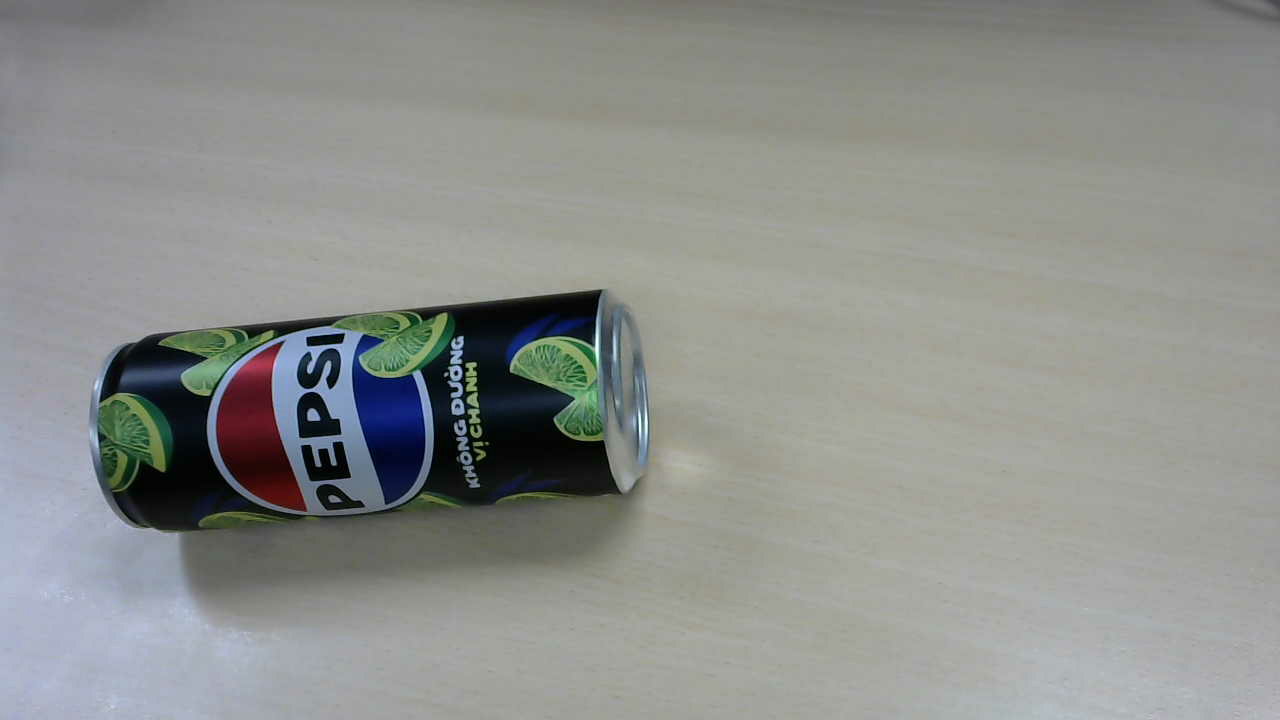Pepsi: (96, 291, 652, 539)
